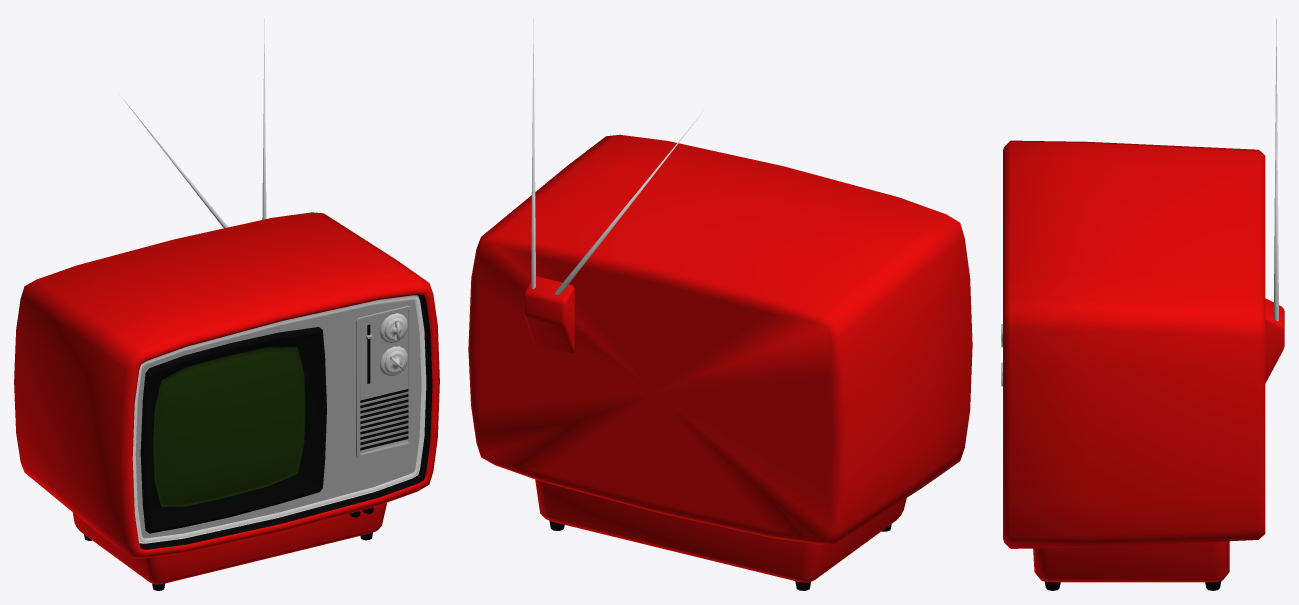
The model's file is retro_tv.dae.
3 renders of one model, left to right at view 1: azimuth 30°, elevation 25°; view 2: azimuth 150°, elevation 25°; view 3: azimuth 270°, elevation 25°, orthographic. The views are drawn at different scales.
Parts seen in each view (by area): view 1: Retro_TV; view 2: Retro_TV; view 3: Retro_TV.
Boxes of the visible parts, box(x1,y1,x2,y2) form: Retro_TV: box(14, 18, 439, 590); Retro_TV: box(468, 19, 972, 590); Retro_TV: box(1001, 19, 1284, 590).
Bounding box in the file's own units: 110 × 71.95 × 150.
